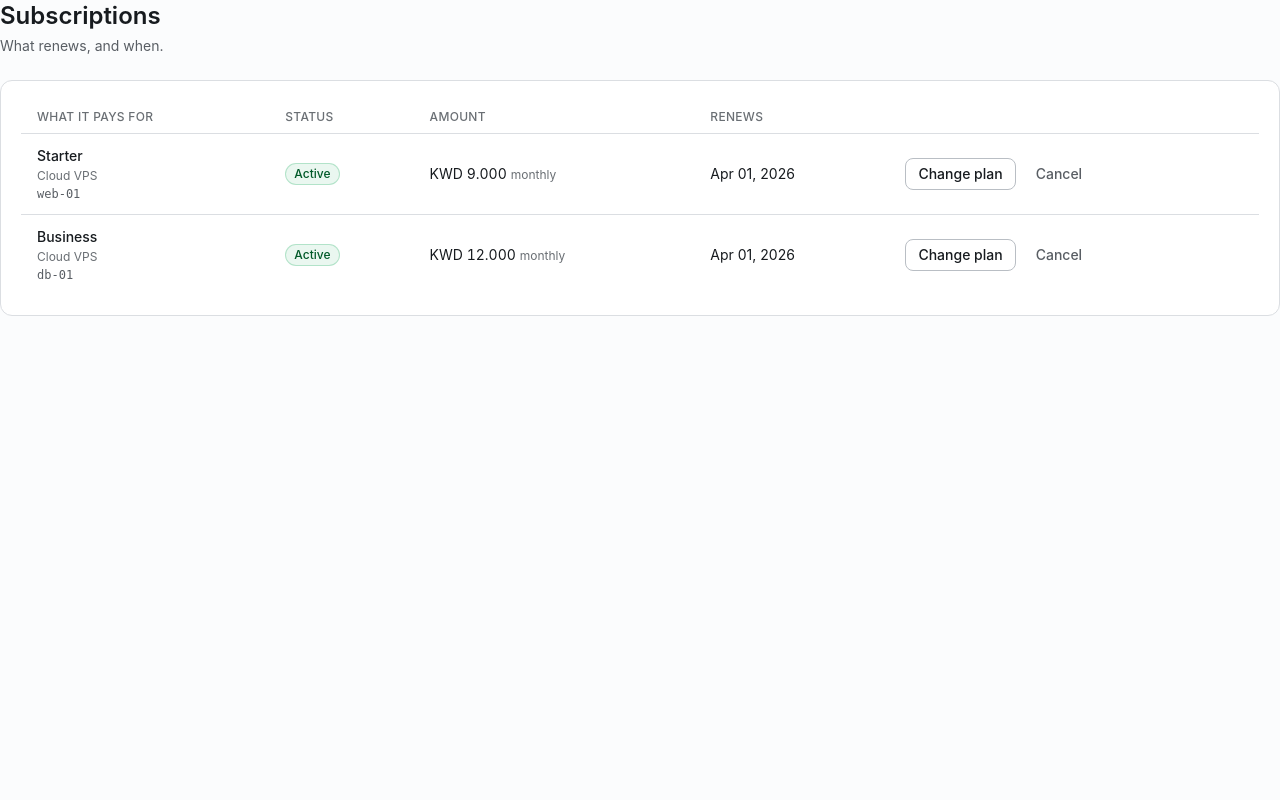
Test: two subscriptions are tellable apart › repeats which one is being ended inside the cancellation dialogue
Expected: the row that starts with "Business" is shown, 21,214 -> 1259,295
Click the button "Cancel" in the row of "Business" at {"x": 1059, "y": 255}, box 1024,239 -> 1094,271
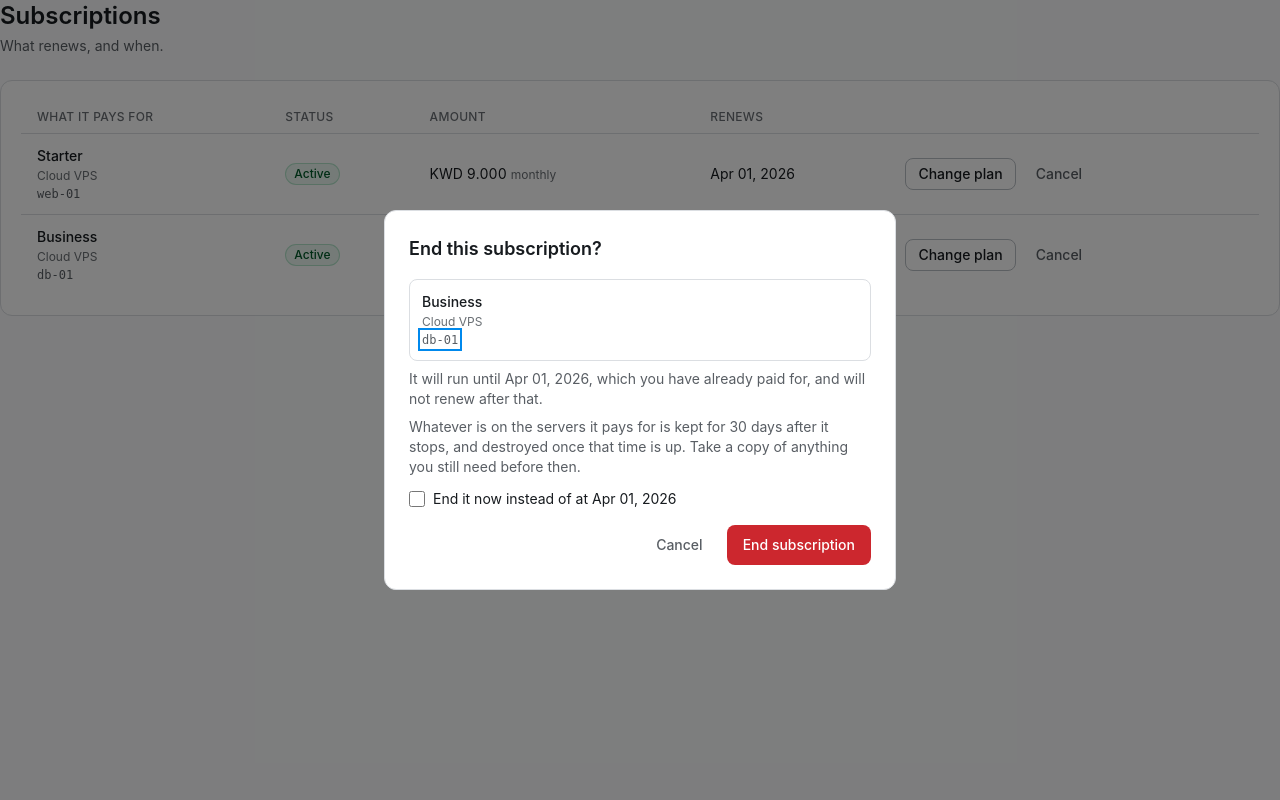
Now the text "db-01" is shown, box 422,333 -> 458,347
Now the text "Business" is shown, box 422,293 -> 482,310
